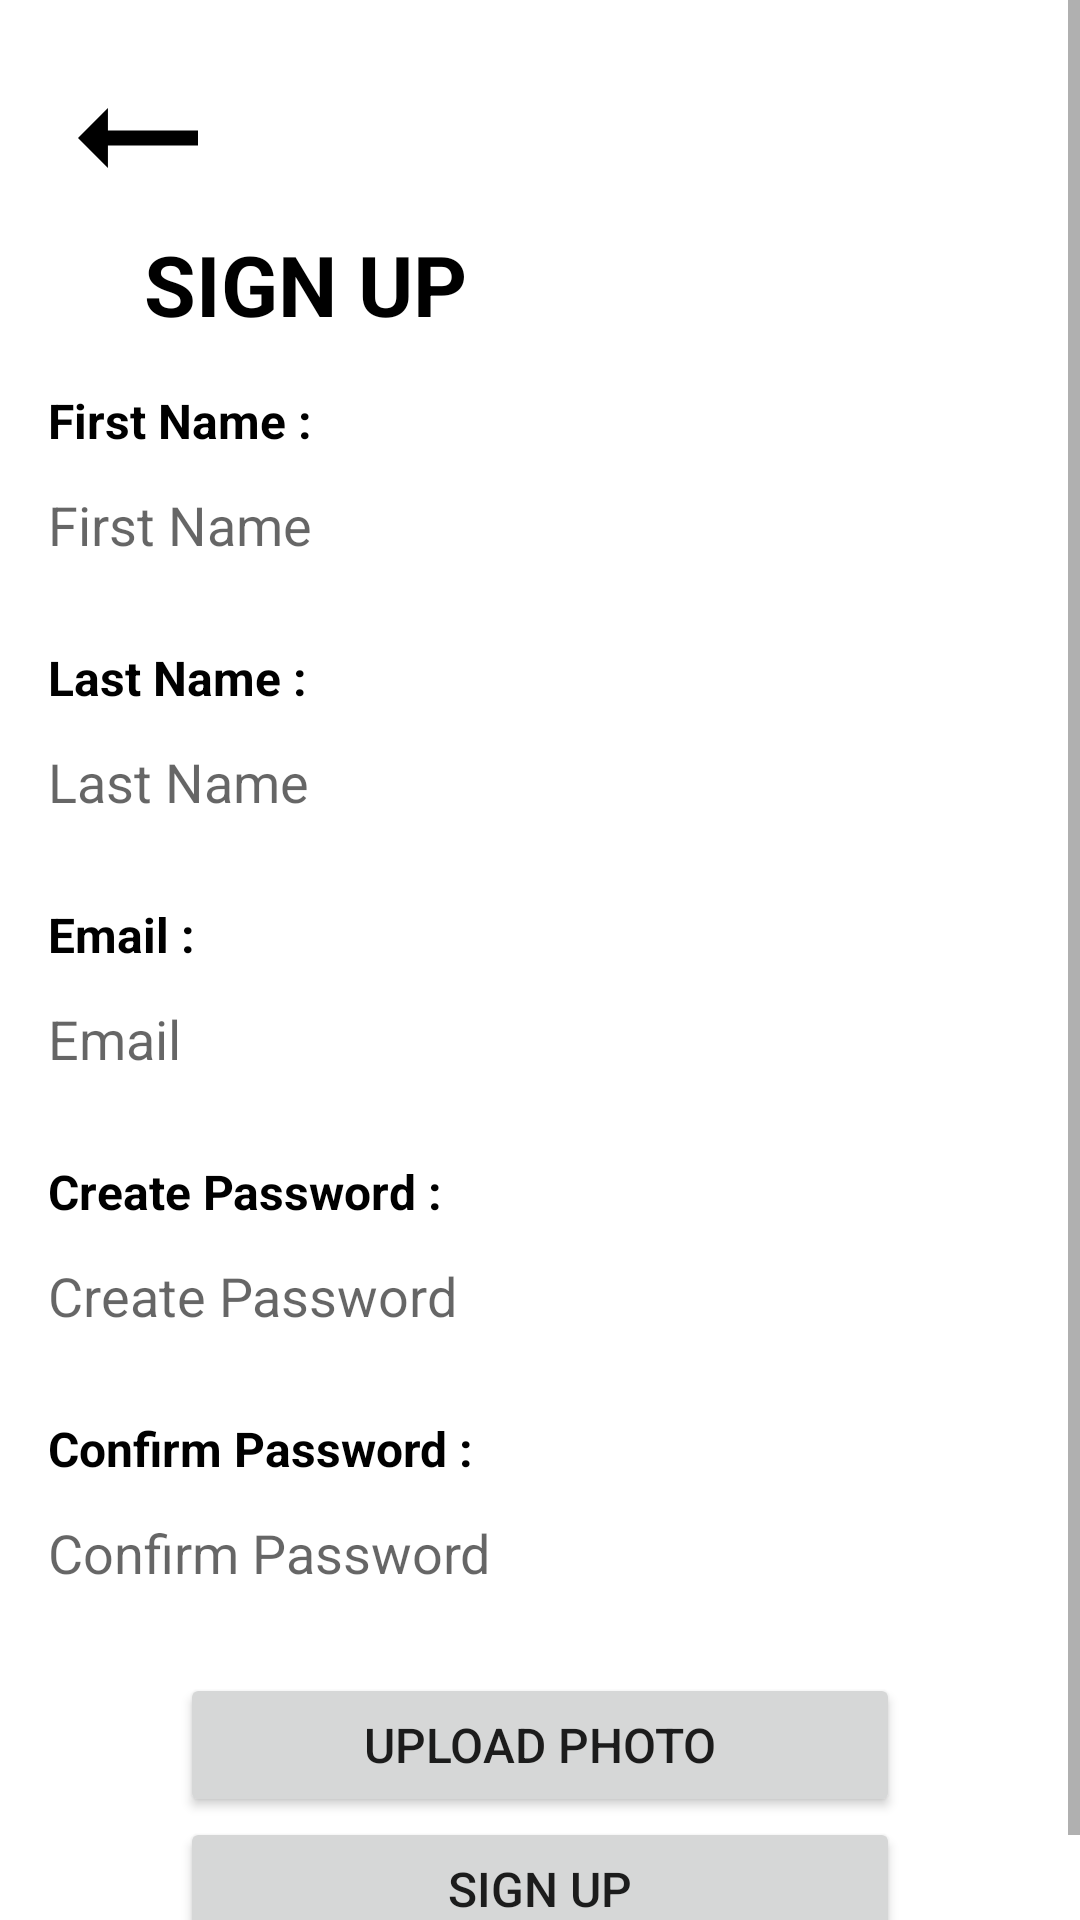

Named icons in this screenshot (1080w x 1920h) and their bounding boxes, [x1,y1,x2,y2]:
back arrow: [78,108,198,168]
